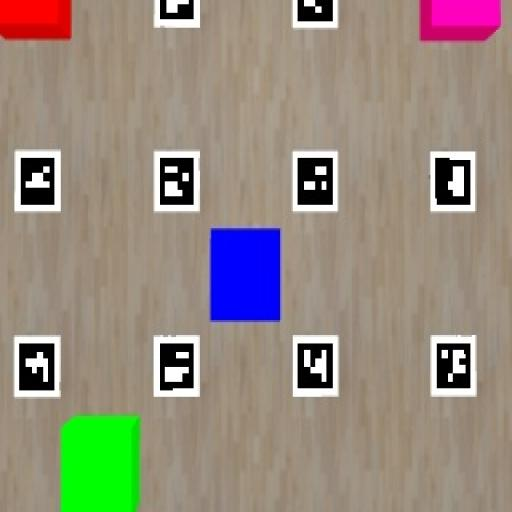car: (61, 414, 140, 511), (210, 229, 281, 322), (420, 0, 500, 42)
fire: (0, 0, 71, 40)
